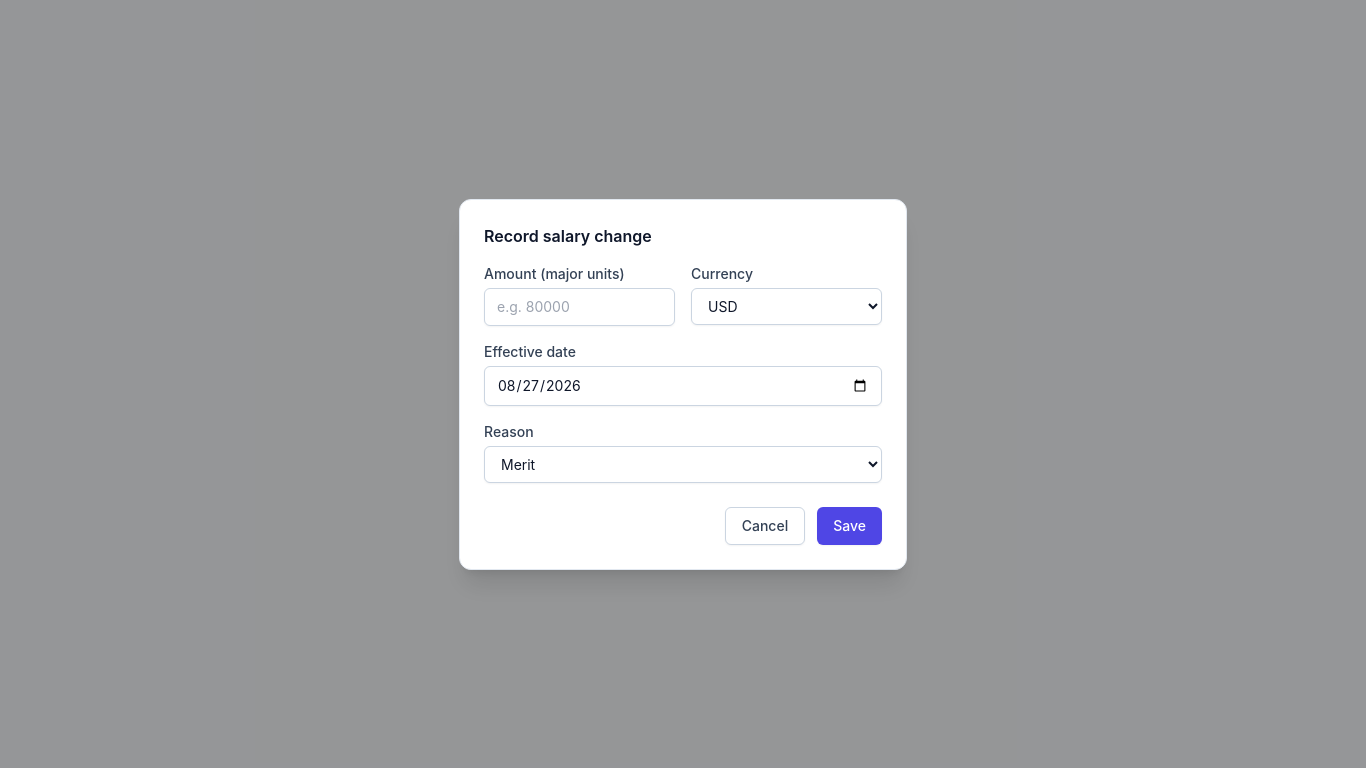
Test: RaiseForm › shows error when createSalary fails
Step 1. Type "1000" into the number field labelled "Amount (major units)" → (580, 306), box [484,288,675,326]
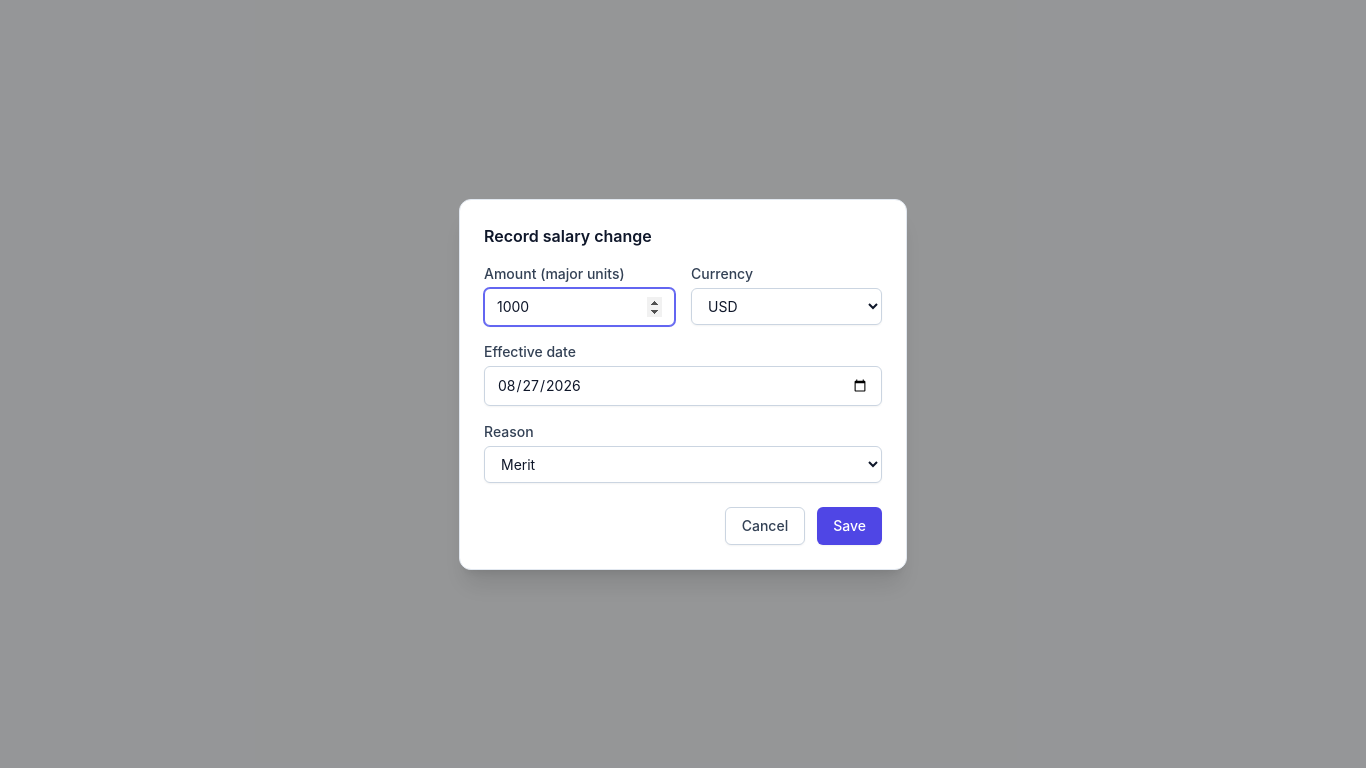
Step 2. Click the button "Save" → (850, 526), box [817,506,882,544]
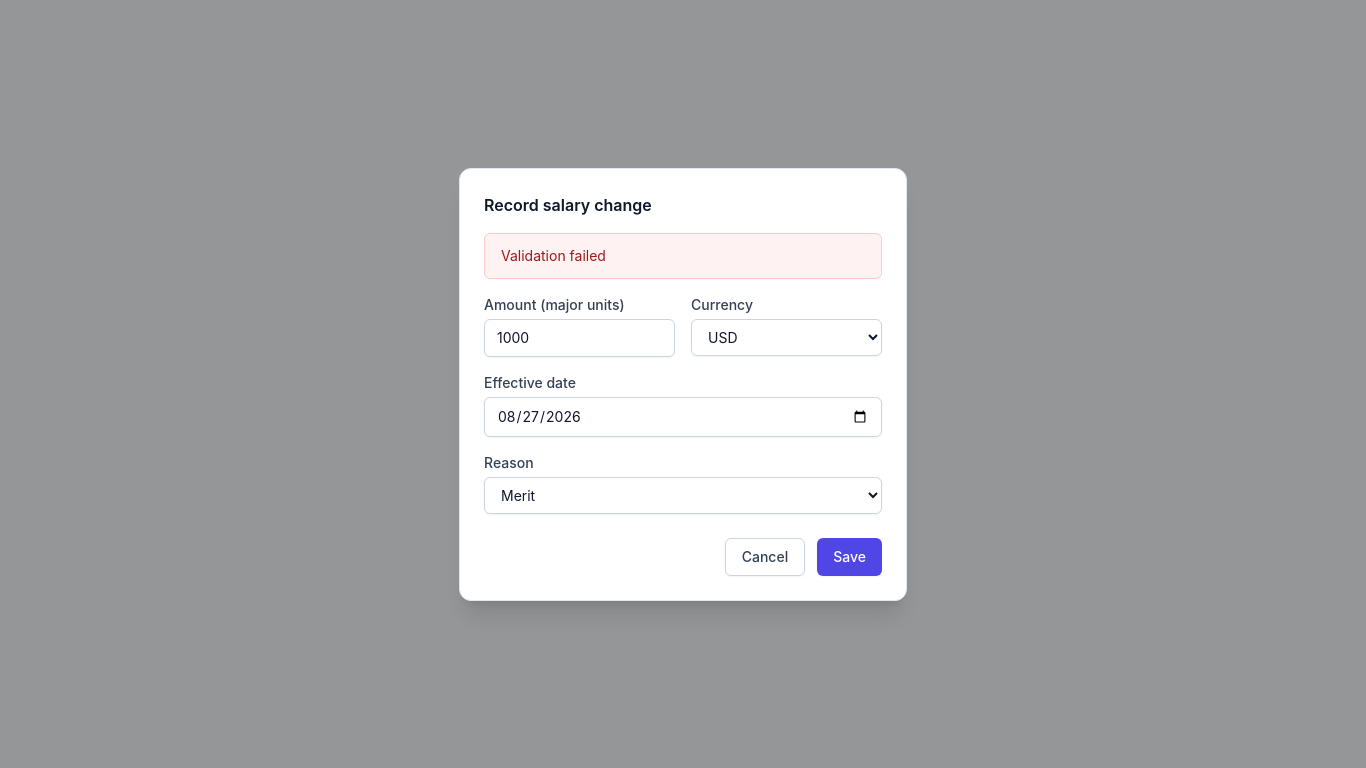
Check: the message reads "Validation failed", box [501,246,606,264]
